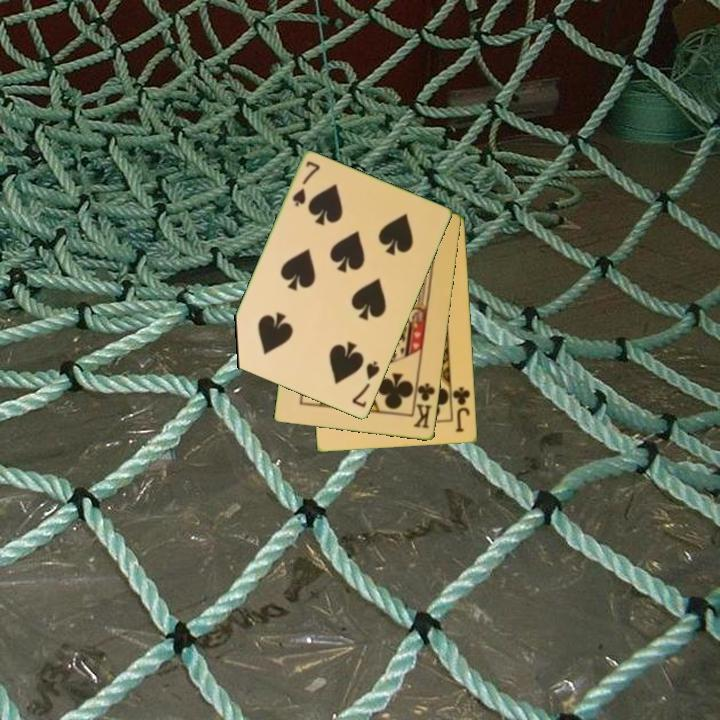7s: (349, 358, 383, 411), (289, 158, 323, 210)
Jc: (449, 384, 473, 436)
Kc: (410, 376, 438, 431)
